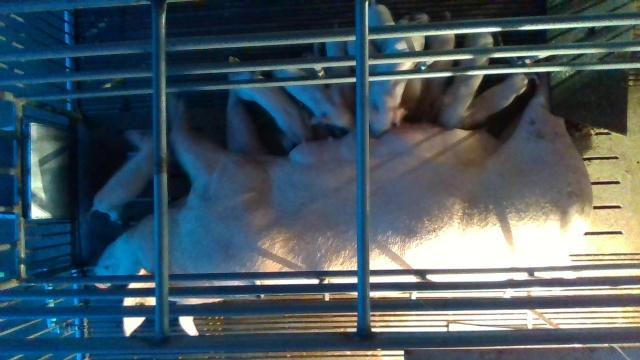piglet: (370, 10, 430, 136), (96, 130, 165, 225), (366, 0, 422, 115), (233, 72, 313, 143), (273, 69, 354, 134), (437, 34, 491, 130), (455, 75, 530, 129)
sow-sleep-lactate: (92, 73, 593, 337)
